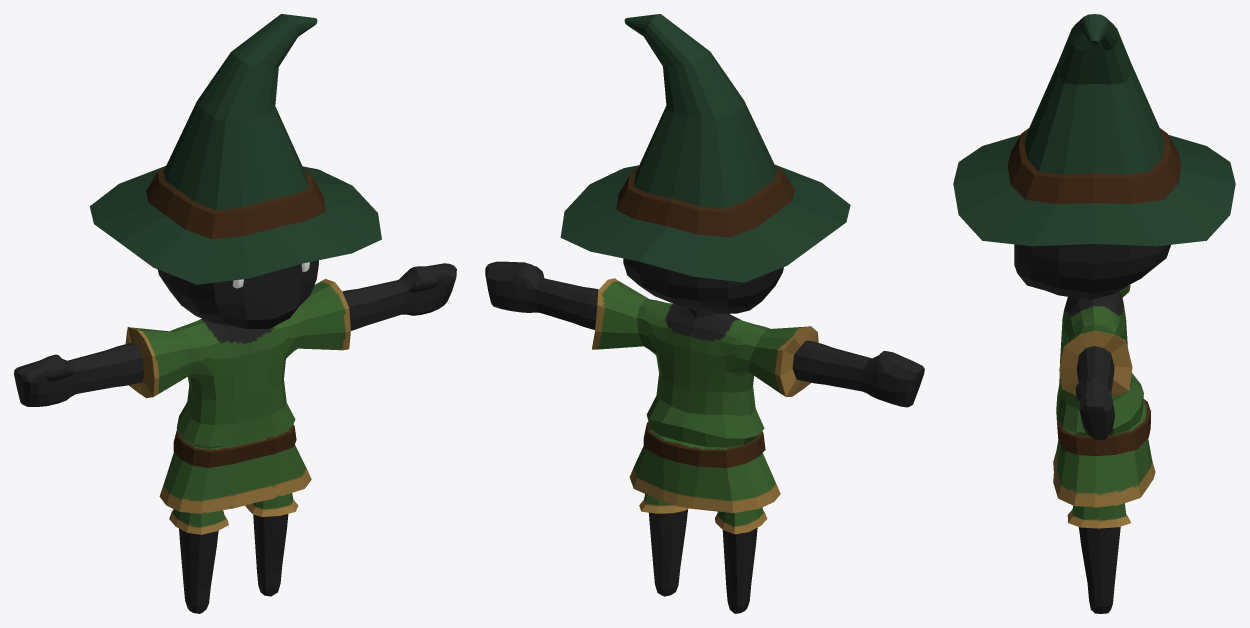
Rendered from Elf.fbx.
3 views of the same model, side by side, from view 1: azimuth 30°, elevation 25°; view 2: azimuth 150°, elevation 25°; view 3: azimuth 270°, elevation 25° (orthographic). The views are drawn at different scales.
Parts seen in each view (by area): view 1: Body; view 2: Body; view 3: Body.
Part boxes in pixels (bbox=[...]): Body: bbox=[14, 14, 456, 613]; Body: bbox=[485, 14, 924, 613]; Body: bbox=[953, 14, 1235, 613].
Size of the model in its own units: 324 by 410 by 173.
1 material, 1 textured.
